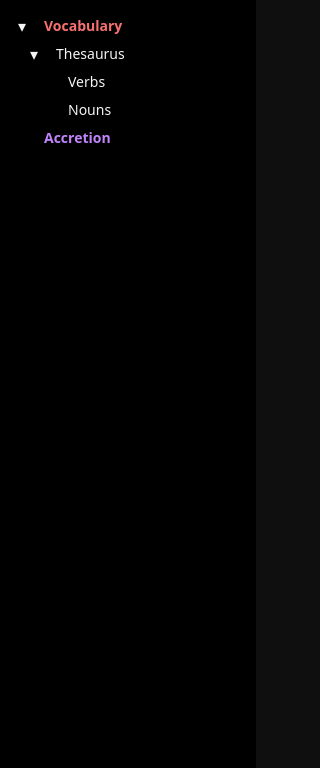
Scenario: Sidebar › keeps sibling branches independently collapsible
The width and height of the screenshot is (320, 768).
# Collapsing the top-level Vocabulary hides its whole subtree.
Click the button named "collapse vocabulary" at point(22, 26), box [12,16,32,36]
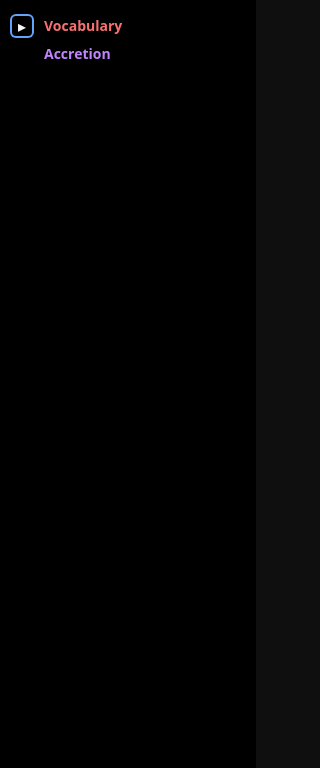
Expected: the link "Accretion" is shown, [44,44,111,63]
Now the link "Thesaurus" is gone
